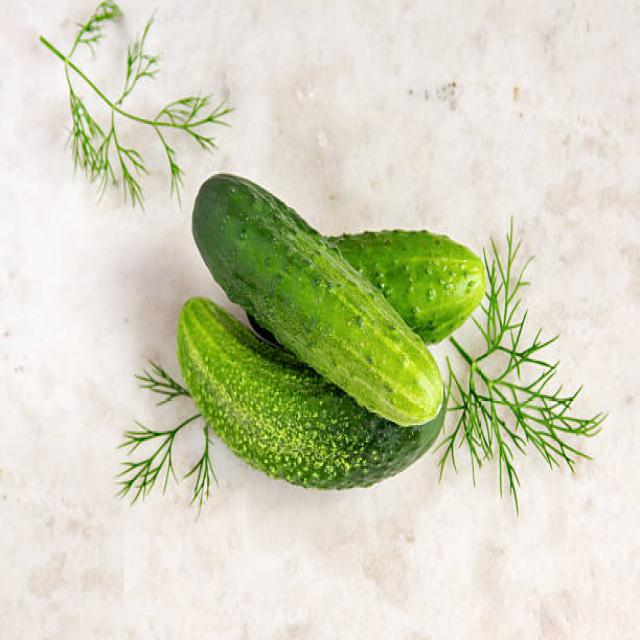cucumber: (180, 172, 486, 489)
